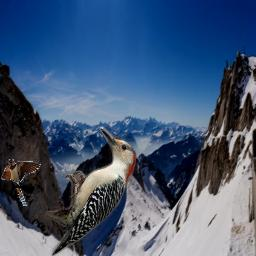Swallow: (1, 159, 41, 206)
Woodpecker: (46, 126, 136, 256)
